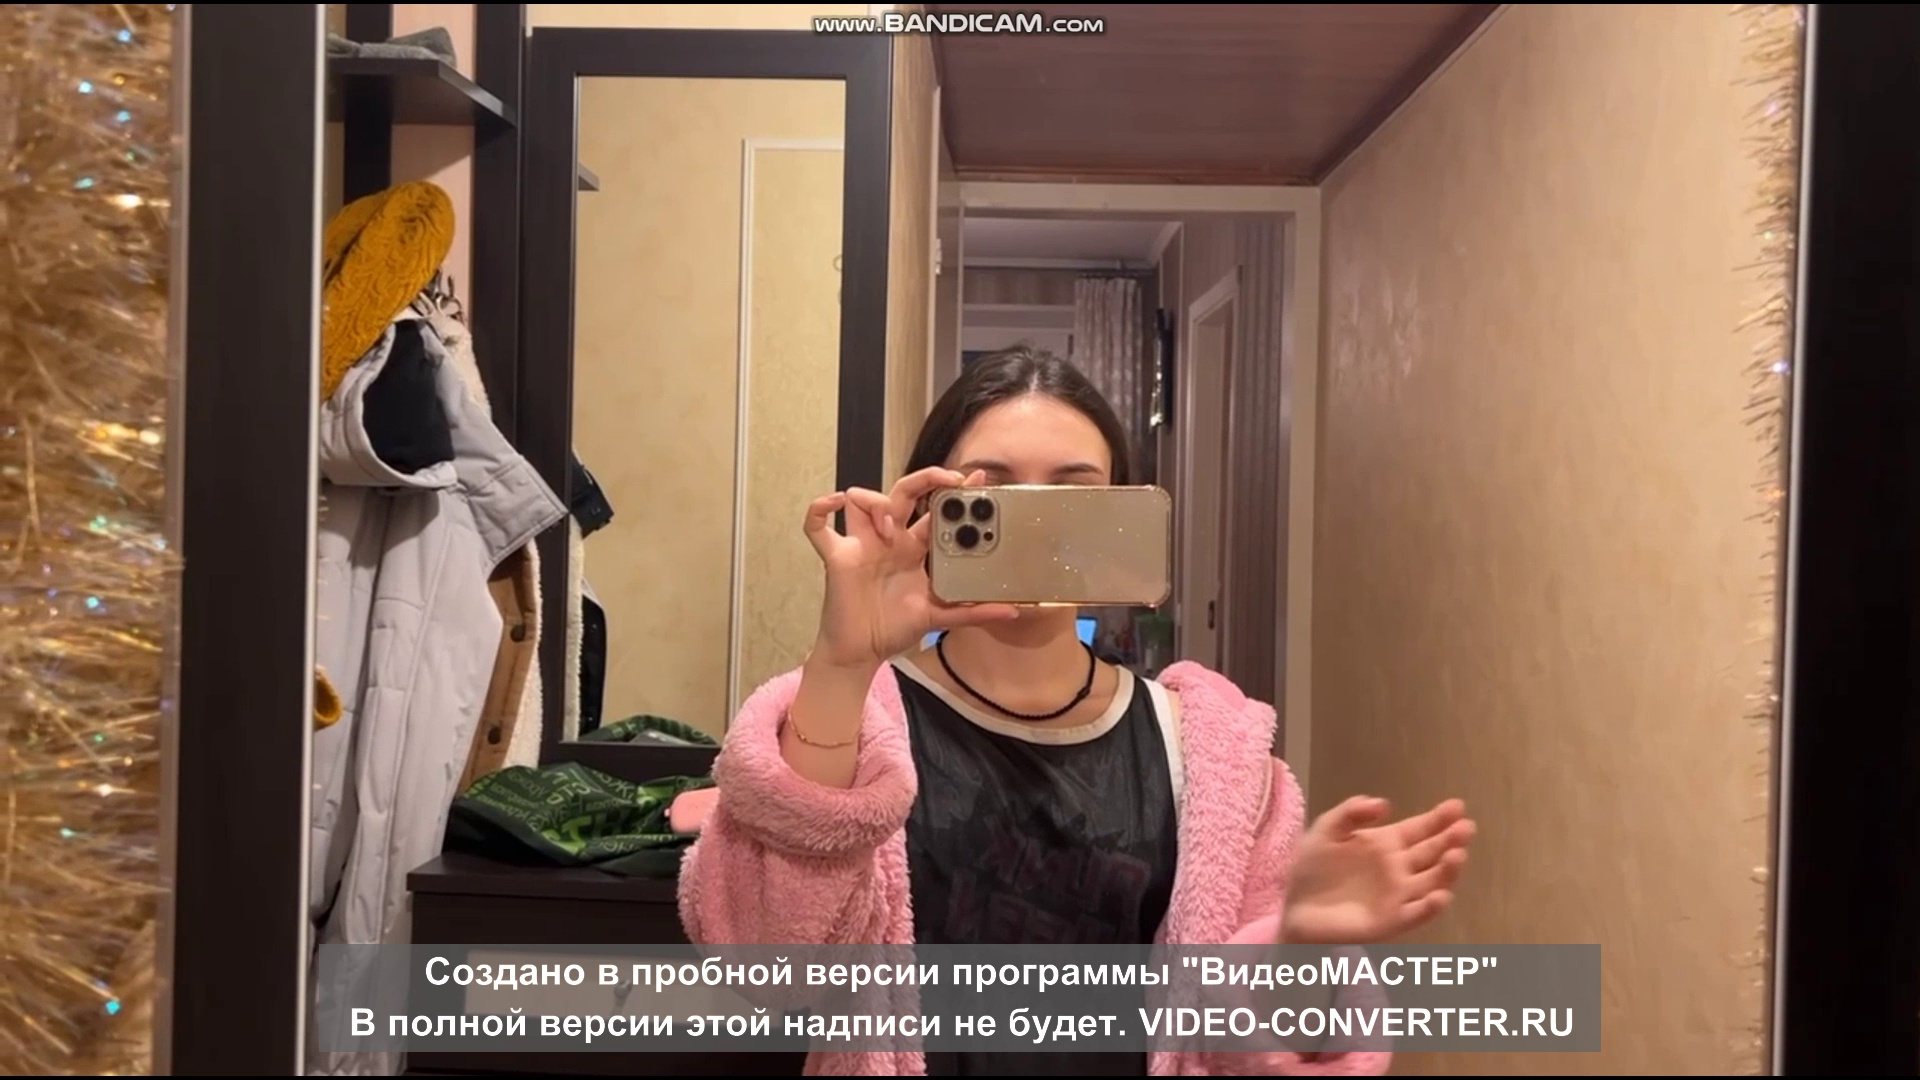Ладонь: (1278, 793, 1477, 939)
